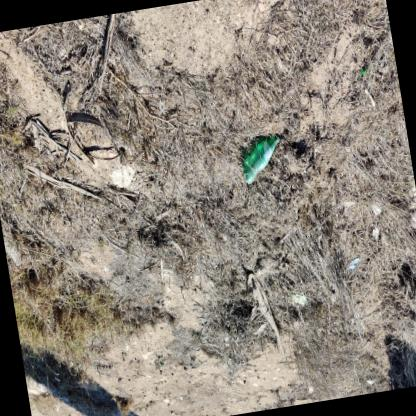Plastic: (240, 132, 279, 183), (409, 208, 416, 227), (358, 67, 369, 75), (274, 132, 279, 140)
Waste: (289, 293, 304, 305), (348, 256, 359, 269)
